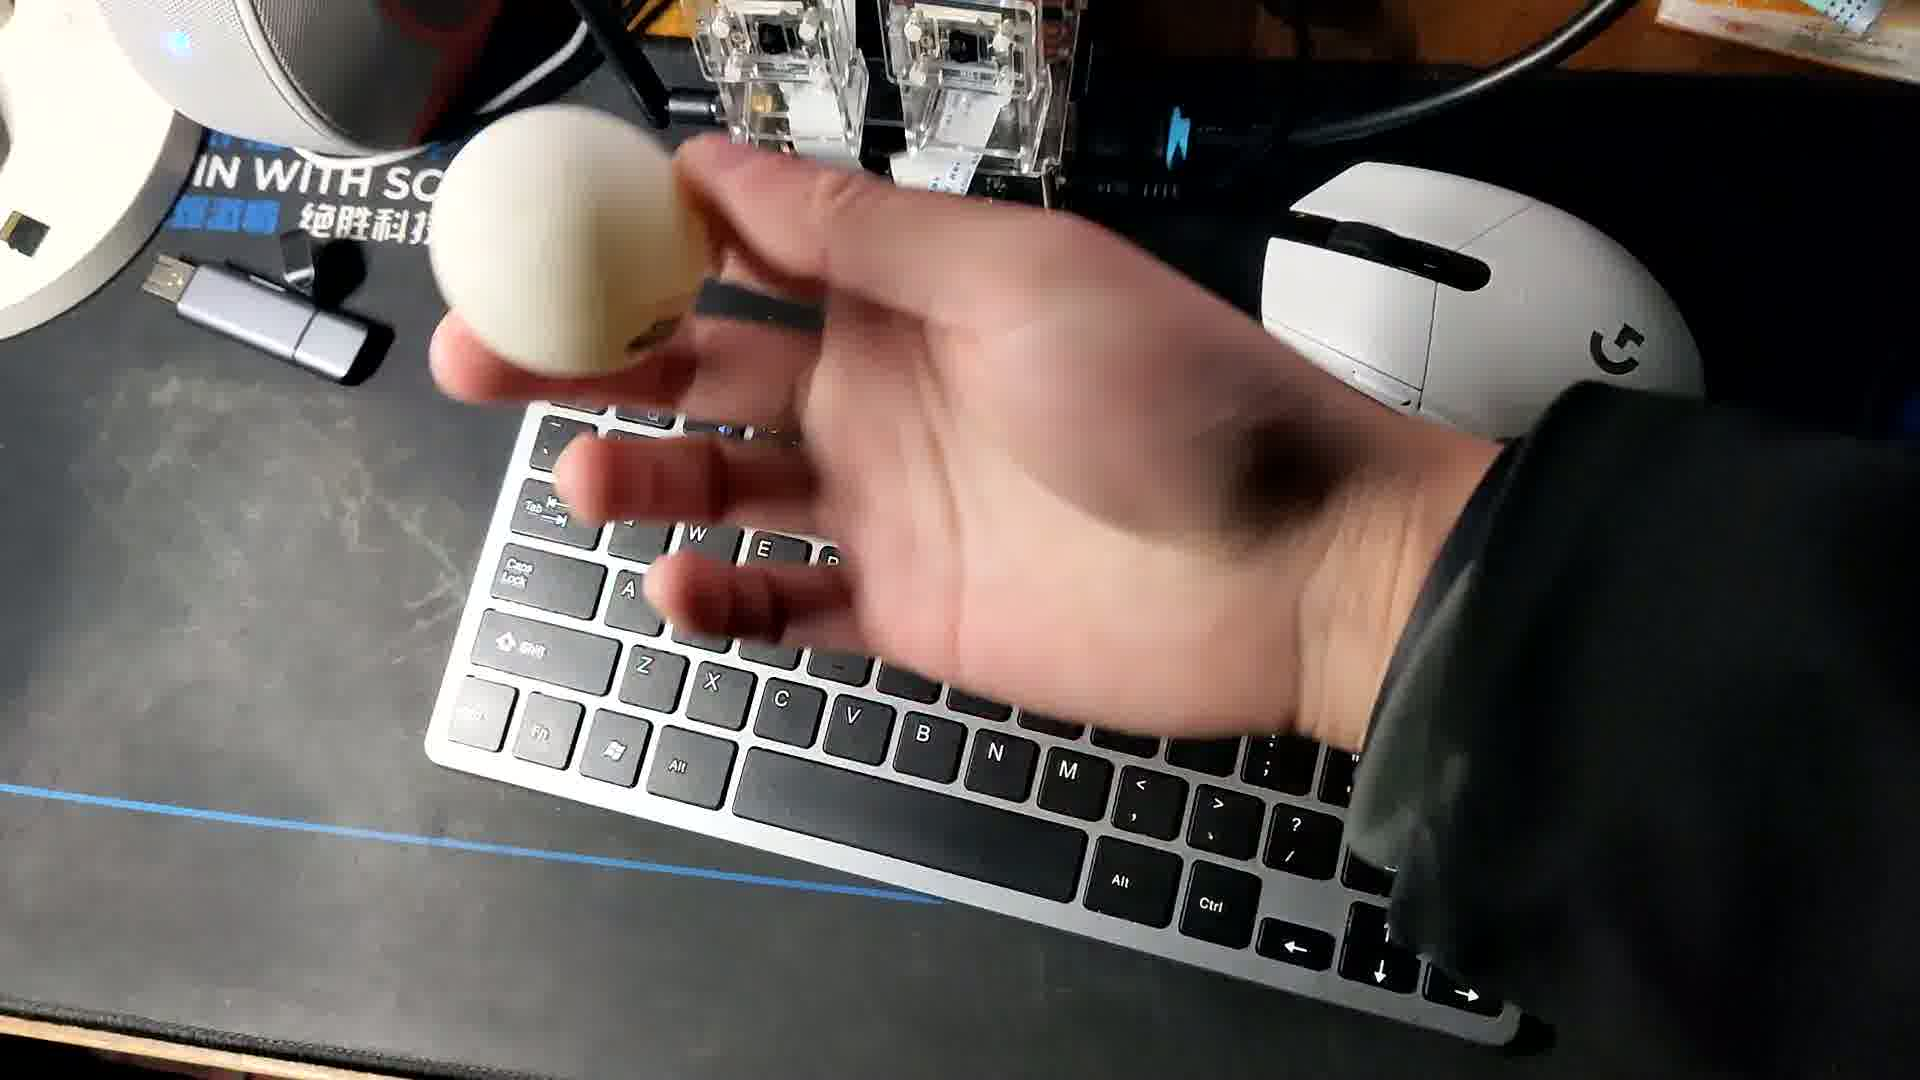Ball: (421, 105, 705, 380)
